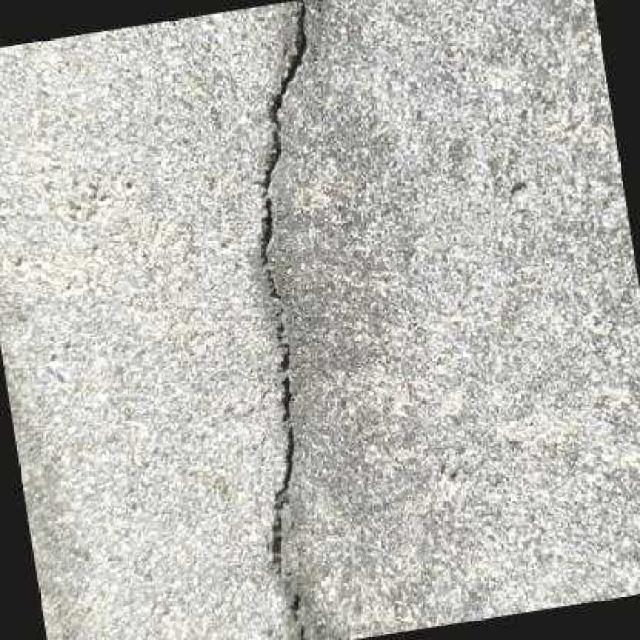D00: (257, 0, 308, 640)
